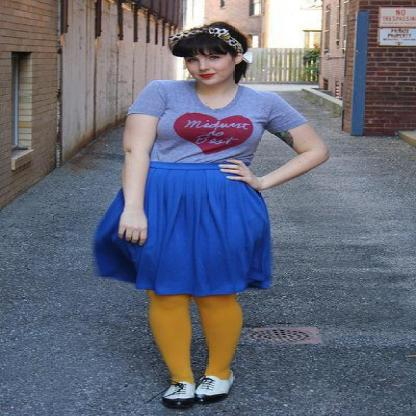shirt: (128, 78, 312, 172)
shoe: (162, 376, 232, 415)
skirt: (92, 160, 272, 296)
